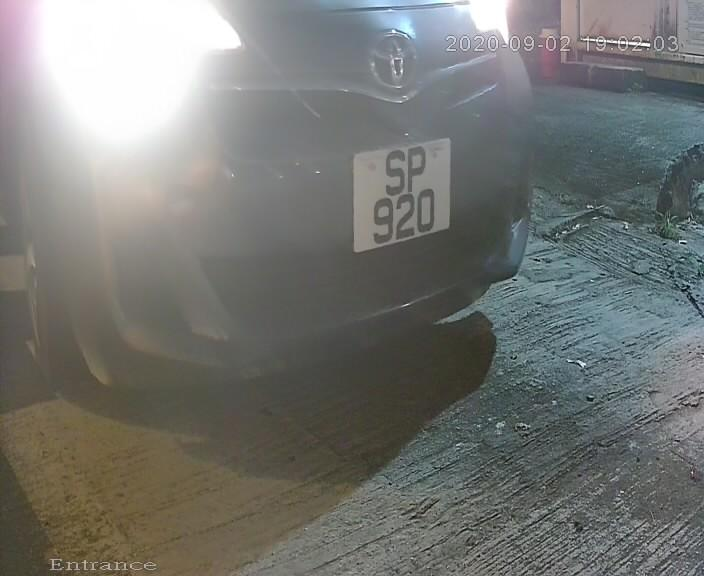License Plate: (343, 127, 456, 265)
